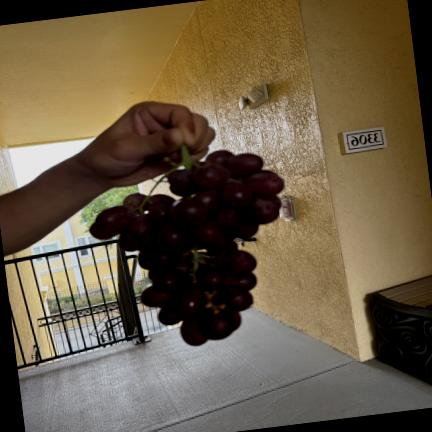grape_cluster: (89, 146, 283, 345)
